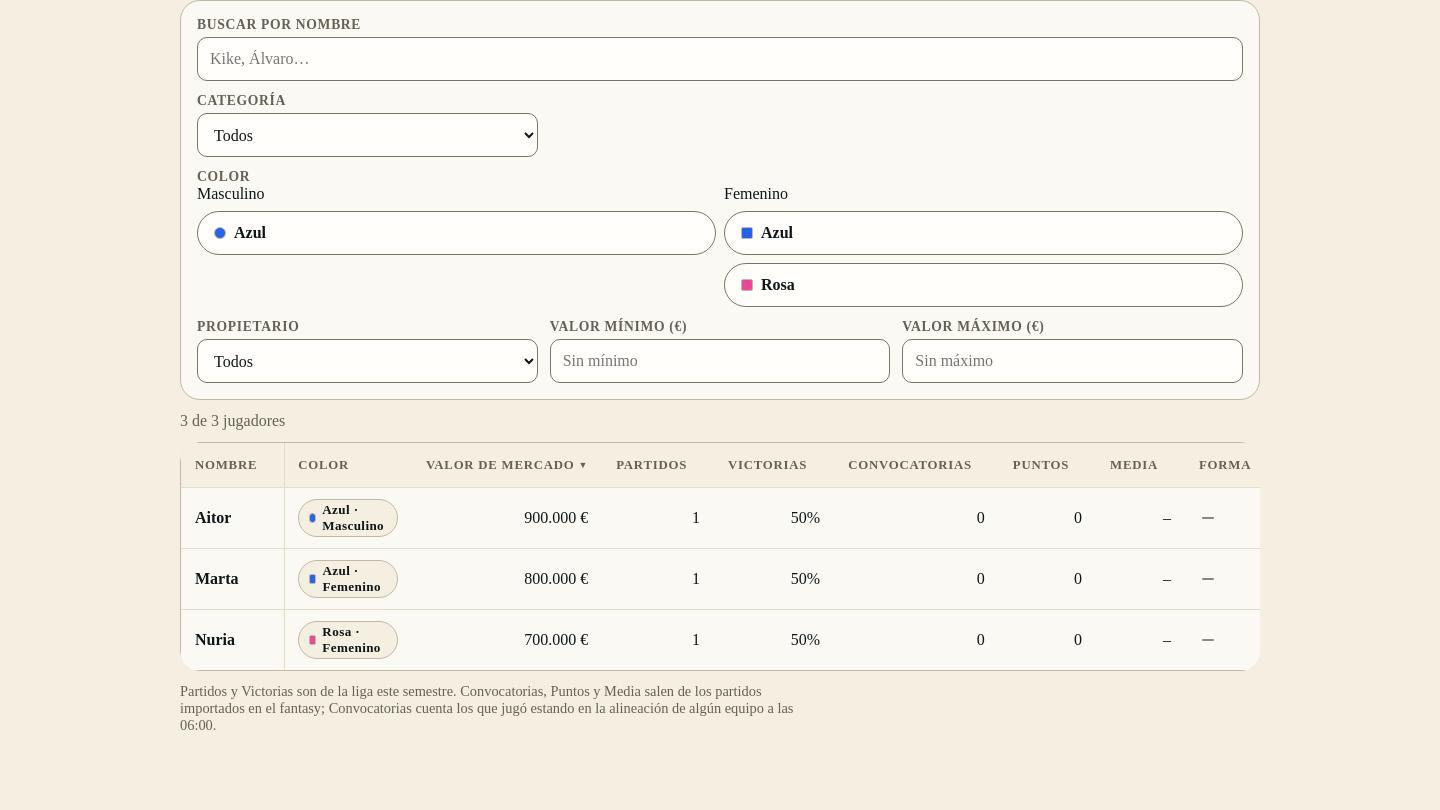
Test: PlayersTable categories › changing category clears the color picks (they belonged to the other chip set) and Quitar filtros resets it
Later steps or results of the test are not shown.
Click the 1st button with class "chip-toggle". click: (250, 232)
box: 197,211 -> 716,255
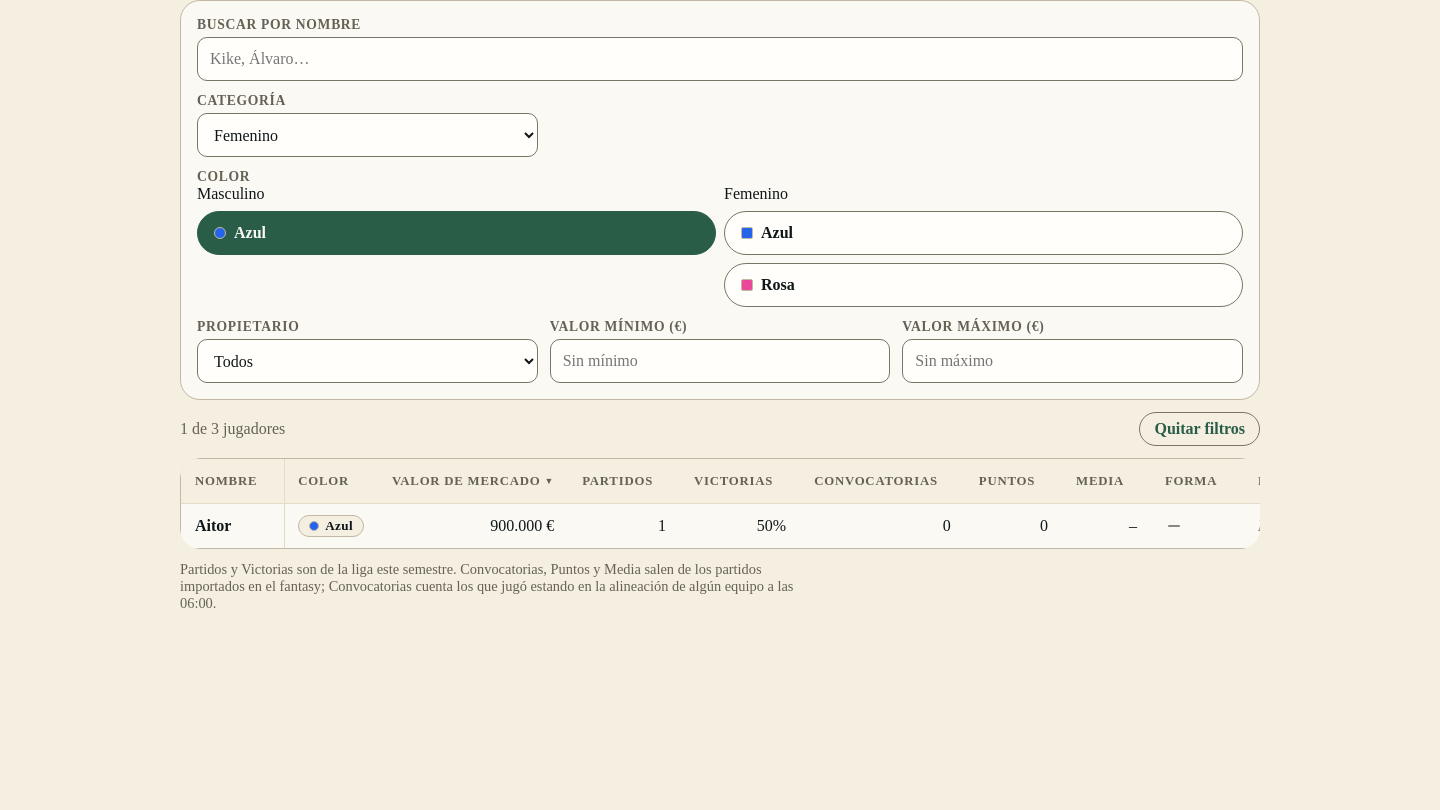
Select "Femenino" in the dropdown labelled "Categoría". click: (367, 135)
box: 197,113 -> 538,157
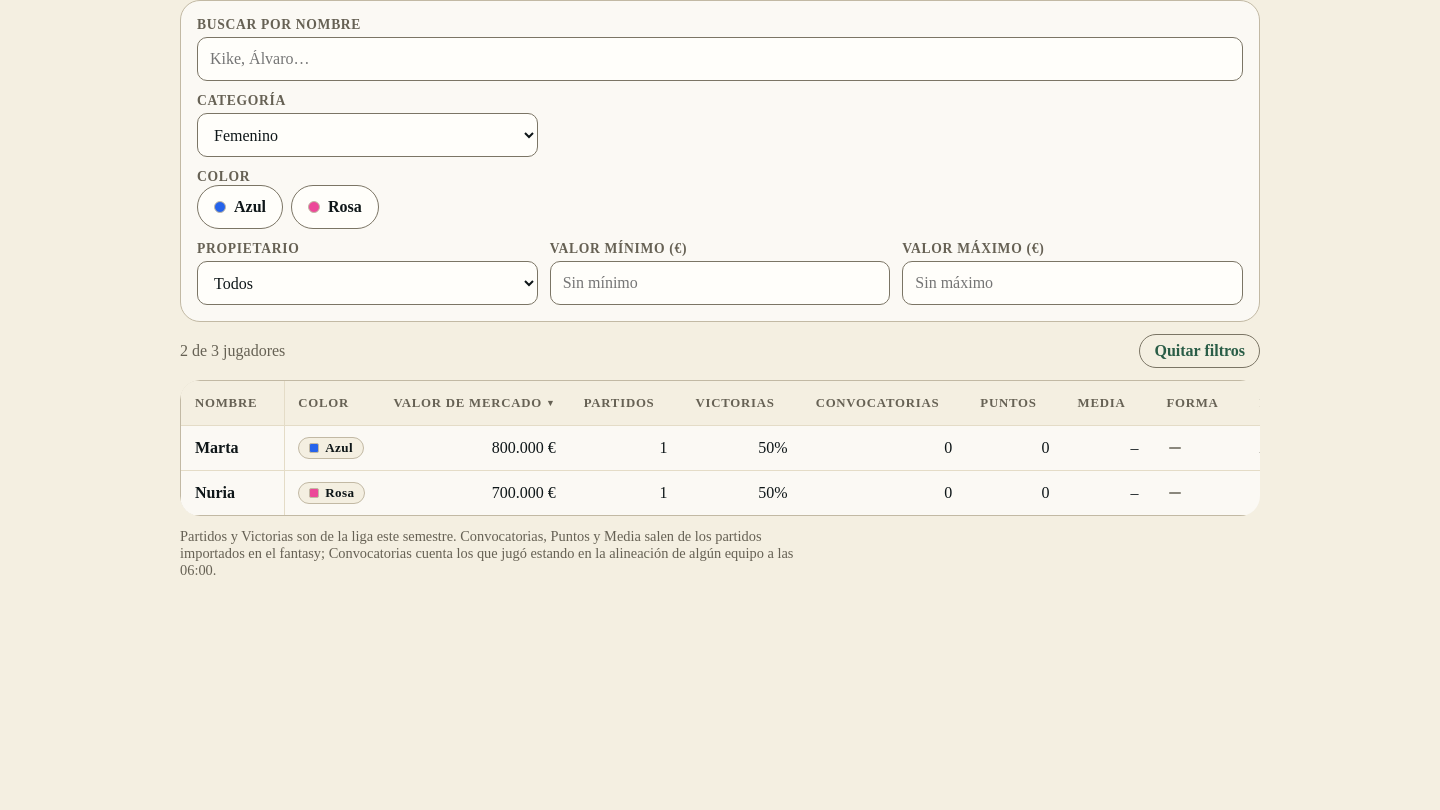
Expected: the button with class "chip-toggle" is not pressed, 197,185 -> 283,229
